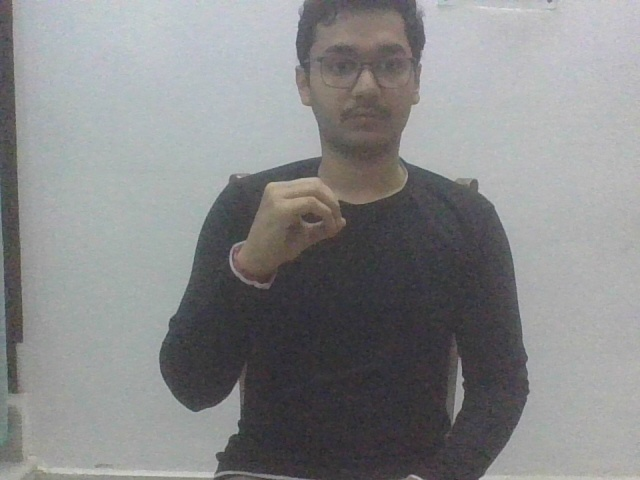O: (228, 180, 352, 290)
